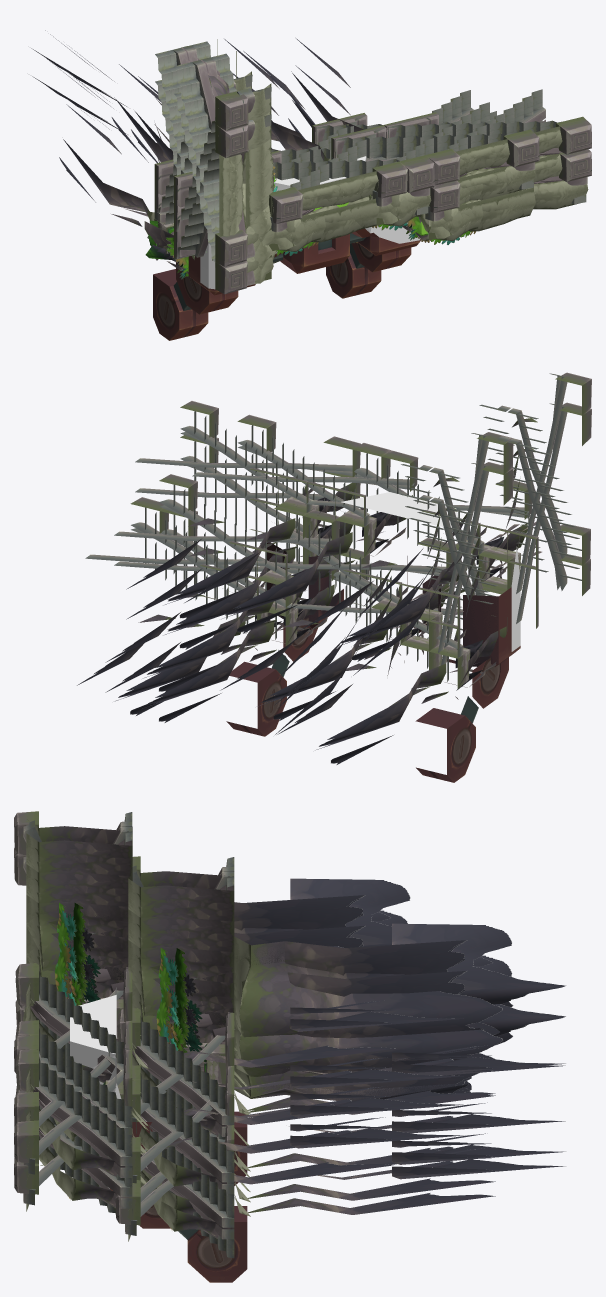
The model's file is entrance_fromtown.glb.
3 renders of one model, top to bottom at view 1: azimuth 30°, elevation 25°; view 2: azimuth 150°, elevation 25°; view 3: azimuth 270°, elevation 25°, orthographic. The views are drawn at different scales.
Parts seen in each view (by area): view 1: outershell.part_nature-MeshSets[stair_edge_EW].Mesh[1] (×9), arcade.entranceway_southwall-Mesh[1], outershell.part_nature-MeshSets[stair_edge_WE].Mesh[1] (×7), outershell.part_nature-MeshSets[stair_cliffedge_WE].Mesh[1] (×6), outershell.part_nature-MeshSets[stair_cliffedge_EW].Mesh[1] (×6), outershell.part_nature-MeshSets[stair_cliffedge_WE].Mesh[0] (×5), outershell.part_nature-MeshSets[stair_cliffedge_EW].Mesh[0] (×5), outershell.part_nature-MeshSets[wall_cliff_x4_01].Mesh[1] (×4), outershell.part_nature-MeshSets[floor_dirtblock_x2_02].Mesh[ (×6), outershell.part_nature-MeshSets[wall_cliff_x4_02].Mesh[1] (×3), outershell.part_nature-MeshSets[wall_cliff_x2_02].Mesh[1] (×4), outershell.part_nature-MeshSets[stair_edge_WE].Mesh[0] (×3) (+4 smaller); view 2: outershell.part_nature-MeshSets[stair_edge_WE].Mesh[1] (×13), outershell.part_nature-MeshSets[wall_abyss_cornerout].Mesh[0 (×9), outershell.part_nature-MeshSets[stair_edge_EW].Mesh[1] (×12), arcade.entranceway_southwall-Mesh[1], outershell.part_nature-MeshSets[stair_cliffedge_WE].Mesh[1] (×9), outershell.part_nature-MeshSets[stair_cliffedge_EW].Mesh[1] (×4), outershell.part_nature-MeshSets[wall_abyss_x4_01].Mesh[0] (×4), arcade.entranceway_southwall-Mesh[0]; view 3: outershell.part_nature-MeshSets[wall_abyss_x4_01].Mesh[0] (×12), outershell.part_nature-MeshSets[stair_edge_EW].Mesh[1] (×7), outershell.part_nature-MeshSets[wall_abyss_x4_02].Mesh[0] (×4), outershell.part_nature-MeshSets[stair_edge_WE].Mesh[0] (×4), outershell.part_nature-MeshSets[wall_foliage_x4_01].Mesh[0] (×4), outershell.part_nature-MeshSets[wall_cliff_x4_02].Mesh[0] (×4), outershell.part_nature-MeshSets[stair_cliffedge_EW].Mesh[1] (×5), outershell.part_nature-MeshSets[stair_edge_EW].Mesh[0] (×4), outershell.part_nature-MeshSets[stair_cliffedge_WE].Mesh[1] (×5), arcade.entranceway_southwall-Mesh[1], outershell.part_nature-MeshSets[wall_cliff_x4_01].Mesh[0] (×4), outershell.part_nature-MeshSets[stair_cliffedge_EW].Mesh[0] (×2) (+6 smaller).
Boxes of the visible parts, box(x1,y1,x2,y2) form: outershell.part_nature-MeshSets[stair_edge_EW].Mesh[1] (×9): box(155, 47, 545, 285); arcade.entranceway_southwall-Mesh[1]: box(153, 228, 420, 340); outershell.part_nature-MeshSets[stair_edge_WE].Mesh[1] (×7): box(158, 89, 585, 258); outershell.part_nature-MeshSets[stair_cliffedge_WE].Mesh[1] (×6): box(215, 87, 591, 215); outershell.part_nature-MeshSets[stair_cliffedge_EW].Mesh[1] (×6): box(202, 53, 545, 294); outershell.part_nature-MeshSets[stair_cliffedge_WE].Mesh[0] (×5): box(219, 97, 562, 236); outershell.part_nature-MeshSets[stair_cliffedge_EW].Mesh[0] (×5): box(209, 78, 575, 236); outershell.part_nature-MeshSets[wall_cliff_x4_01].Mesh[1] (×4): box(245, 140, 535, 240); outershell.part_nature-MeshSets[floor_dirtblock_x2_02].Mesh[ (×6): box(154, 112, 438, 259); outershell.part_nature-MeshSets[wall_cliff_x4_02].Mesh[1] (×3): box(285, 168, 535, 242); outershell.part_nature-MeshSets[wall_cliff_x2_02].Mesh[1] (×4): box(249, 200, 483, 251); outershell.part_nature-MeshSets[stair_edge_WE].Mesh[0] (×3): box(236, 51, 588, 209); outershell.part_nature-MeshSets[stair_edge_WE].Mesh[1] (×13): box(131, 374, 567, 679); outershell.part_nature-MeshSets[wall_abyss_cornerout].Mesh[0 (×9): box(114, 518, 467, 750); outershell.part_nature-MeshSets[stair_edge_EW].Mesh[1] (×12): box(85, 408, 581, 616); arcade.entranceway_southwall-Mesh[1]: box(226, 542, 520, 782); outershell.part_nature-MeshSets[stair_cliffedge_WE].Mesh[1] (×9): box(130, 372, 591, 681); outershell.part_nature-MeshSets[stair_cliffedge_EW].Mesh[1] (×4): box(307, 404, 590, 595); outershell.part_nature-MeshSets[wall_abyss_x4_01].Mesh[0] (×4): box(275, 514, 467, 734); arcade.entranceway_southwall-Mesh[0]: box(341, 492, 520, 651); outershell.part_nature-MeshSets[wall_abyss_x4_01].Mesh[0] (×12): box(146, 878, 566, 1214); outershell.part_nature-MeshSets[stair_edge_EW].Mesh[1] (×7): box(31, 971, 234, 1227); outershell.part_nature-MeshSets[wall_abyss_x4_02].Mesh[0] (×4): box(234, 895, 513, 1099); outershell.part_nature-MeshSets[stair_edge_WE].Mesh[0] (×4): box(26, 833, 234, 982); outershell.part_nature-MeshSets[wall_foliage_x4_01].Mesh[0] (×4): box(54, 902, 202, 1052); outershell.part_nature-MeshSets[wall_cliff_x4_02].Mesh[0] (×4): box(39, 902, 234, 1029); outershell.part_nature-MeshSets[stair_cliffedge_EW].Mesh[1] (×5): box(15, 963, 234, 1258); outershell.part_nature-MeshSets[stair_edge_EW].Mesh[0] (×4): box(39, 1108, 234, 1238); outershell.part_nature-MeshSets[stair_cliffedge_WE].Mesh[1] (×5): box(14, 811, 140, 1235); arcade.entranceway_southwall-Mesh[1]: box(110, 1111, 247, 1282); outershell.part_nature-MeshSets[wall_cliff_x4_01].Mesh[0] (×4): box(39, 902, 234, 1008); outershell.part_nature-MeshSets[stair_cliffedge_EW].Mesh[0] (×2): box(27, 819, 233, 889).
Bounding box in the file's own units: 14.09 × 11.28 × 17.05.
Materials: 6 (5 with a texture image).
